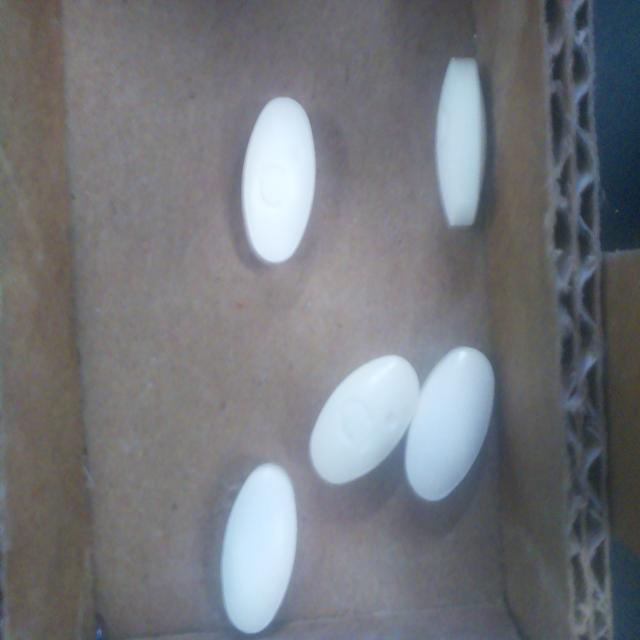pill: (405, 347, 495, 502), (310, 355, 418, 484), (221, 463, 297, 633), (241, 97, 316, 264), (436, 58, 487, 227)
